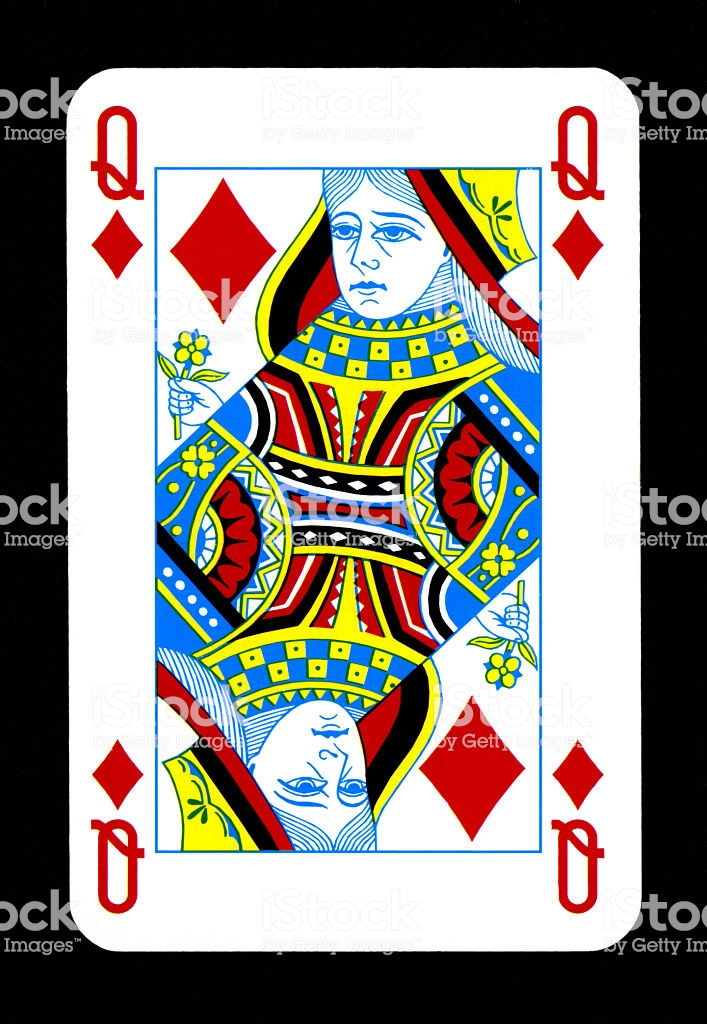queen of diamonds: (63, 63, 644, 954)
